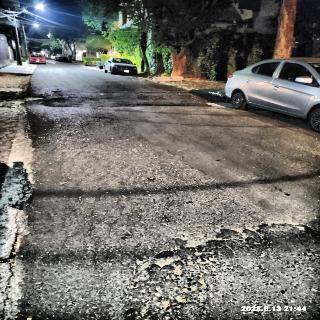alligator-crack: (121, 244, 220, 320)
crack: (198, 221, 316, 248)
